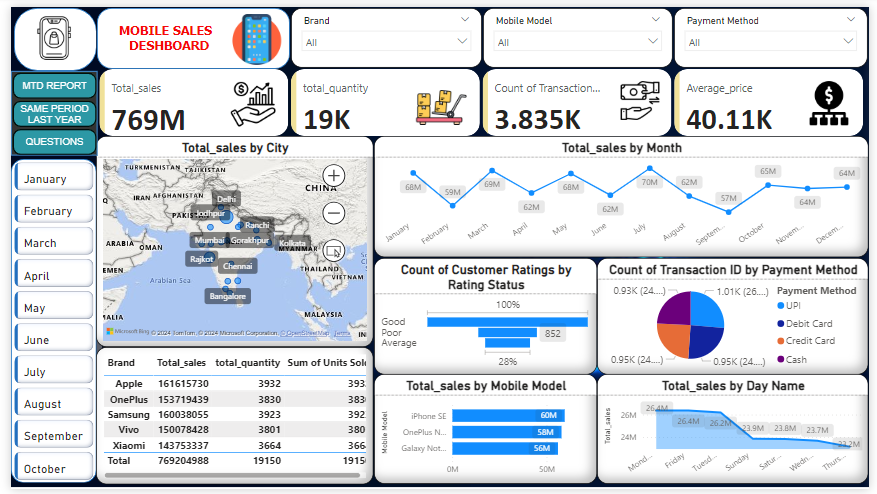

The page's visual inventory and layout, read from the dashboard file:
{"tool":"powerbi","page":{"name":"DASHBOARD","canvas":[1280,720],"ordinal":0},"visuals":[{"type":"shape","box":[4.3,1.4,123.3,93.5],"z":0},{"type":"image","box":[26.9,8.5,75.1,75.1],"z":1000},{"type":"shape","box":[0,226.8,127.6,483.3],"z":3000},{"type":"advancedSlicerVisual","fields":{"Values":["custom_calender.date.Variation.Date Hierarchy.Month"]},"box":[0,226.8,141.7,493.2],"z":4000},{"type":"cardVisual","fields":{"Data":["sales_data.Total_sales","sales_data.total_quantity","CountNonNull(sales_data.Transaction ID)","sales_data.Average_price"]},"box":[127.6,92.1,1152.3,100.6],"z":5000},{"type":"slicer","fields":{"Values":["sales_data.Brand"]},"box":[418.1,1.4,284.9,89.3],"z":6000},{"type":"slicer","fields":{"Values":["sales_data.Mobile Model"]},"box":[704.4,1.4,283,89.3],"z":7000},{"type":"slicer","fields":{"Values":["sales_data.Payment Method"]},"box":[989.3,1.4,289.1,89.3],"z":8000},{"type":"shape","box":[129,1.4,287.7,90.7],"z":9000},{"type":"image","box":[324.6,1.4,86.5,93.5],"z":10000},{"type":"textbox","box":[141.7,18.4,182.8,58.1],"z":11000},{"type":"map","fields":{"Category":["sales_data.City"],"Size":["sales_data.Total_sales"]},"box":[127.6,192.8,413.9,314.6],"z":12000},{"type":"lineChart","fields":{"Y":["sales_data.Total_sales"],"Category":["custom_calender.date.Variation.Date Hierarchy.Month"]},"box":[541.4,192.8,738.4,181.4],"z":13000},{"type":"funnel","fields":{"Category":["sales_data.Rating Status"],"Y":["CountNonNull(sales_data.Customer Ratings)"]},"box":[541.4,374.2,333.1,174.3],"z":14000},{"type":"pieChart","fields":{"Y":["CountNonNull(sales_data.Transaction ID)"],"Category":["sales_data.Payment Method"]},"box":[874.5,374.2,405.4,174.3],"z":15000},{"type":"clusteredBarChart","fields":{"Y":["sales_data.Total_sales"],"Category":["sales_data.Mobile Model"]},"box":[541.4,548.5,333.1,164.4],"z":16000},{"type":"areaChart","fields":{"Y":["sales_data.Total_sales"],"Category":["custom_calender.Day Name"]},"box":[874.5,548.5,405.4,164],"z":17000},{"type":"tableEx","fields":{"Values":["sales_data.Brand","sales_data.Total_sales","sales_data.total_quantity","Sum(sales_data.Units Sold)"]},"box":[127.6,507.4,413.9,205],"z":18000},{"type":"pageNavigator","box":[0,95,129,126.1],"z":19000}]}

Visuals, with their boxes in screenshot pixels (x1, y1, x2, y2), scaled from the page's 1280x720 canvas onto the 877x494 screenshot:
shape: select_region(3, 1, 87, 65)
image: select_region(18, 6, 70, 57)
shape: select_region(0, 156, 87, 487)
advancedSlicerVisual - custom_calender.date.Variation.Date Hierarchy.Month: select_region(0, 156, 97, 493)
cardVisual - sales_data.Total_sales x sales_data.total_quantity: select_region(87, 63, 876, 132)
slicer - sales_data.Brand: select_region(286, 1, 482, 62)
slicer - sales_data.Mobile Model: select_region(483, 1, 677, 62)
slicer - sales_data.Payment Method: select_region(678, 1, 876, 62)
shape: select_region(88, 1, 286, 63)
image: select_region(222, 1, 282, 65)
textbox: select_region(97, 13, 222, 52)
map - sales_data.City x sales_data.Total_sales: select_region(87, 132, 371, 348)
lineChart - sales_data.Total_sales x custom_calender.date.Variation.Date Hierarchy.Month: select_region(371, 132, 876, 257)
funnel - sales_data.Rating Status x CountNonNull(sales_data.Customer Ratings): select_region(371, 257, 599, 376)
pieChart - CountNonNull(sales_data.Transaction ID) x sales_data.Payment Method: select_region(599, 257, 876, 376)
clusteredBarChart - sales_data.Total_sales x sales_data.Mobile Model: select_region(371, 376, 599, 489)
areaChart - sales_data.Total_sales x custom_calender.Day Name: select_region(599, 376, 876, 489)
tableEx - sales_data.Brand x sales_data.Total_sales: select_region(87, 348, 371, 489)
pageNavigator: select_region(0, 65, 88, 152)
